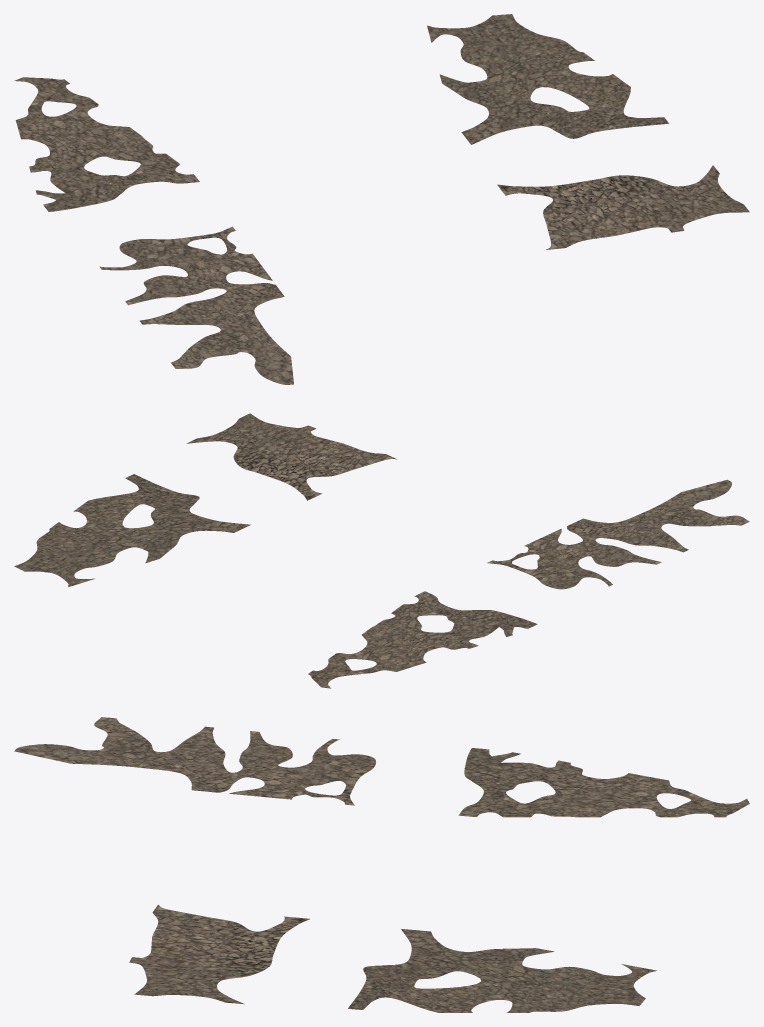
File: send.obj
3 renders of one model, top to bottom at view 1: azimuth 30°, elevation 25°; view 2: azimuth 150°, elevation 25°; view 3: azimuth 270°, elevation 25°, orthographic. The views are drawn at different scales.
Parts seen in each view (by area): view 1: send; view 2: send; view 3: send.
Boxes of the visible parts, x1,y1,x2,y2 form: send: (14,14,749,384); send: (14,413,749,688); send: (14,717,749,1012).
Size of the model in its own units: 19906 by 0 by 20927.
